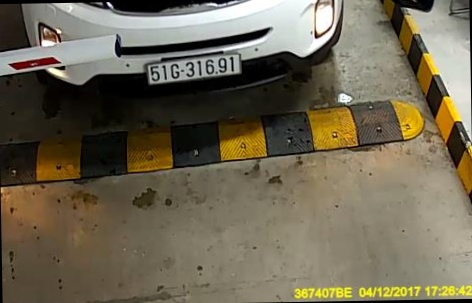plate: (136, 53, 248, 96)
